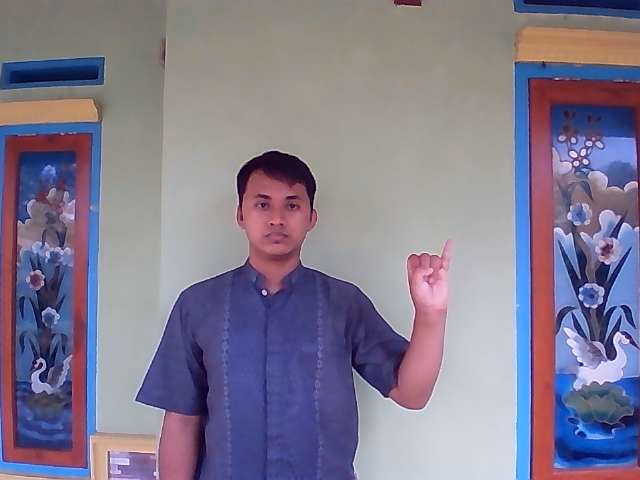I: (403, 235, 456, 321)
